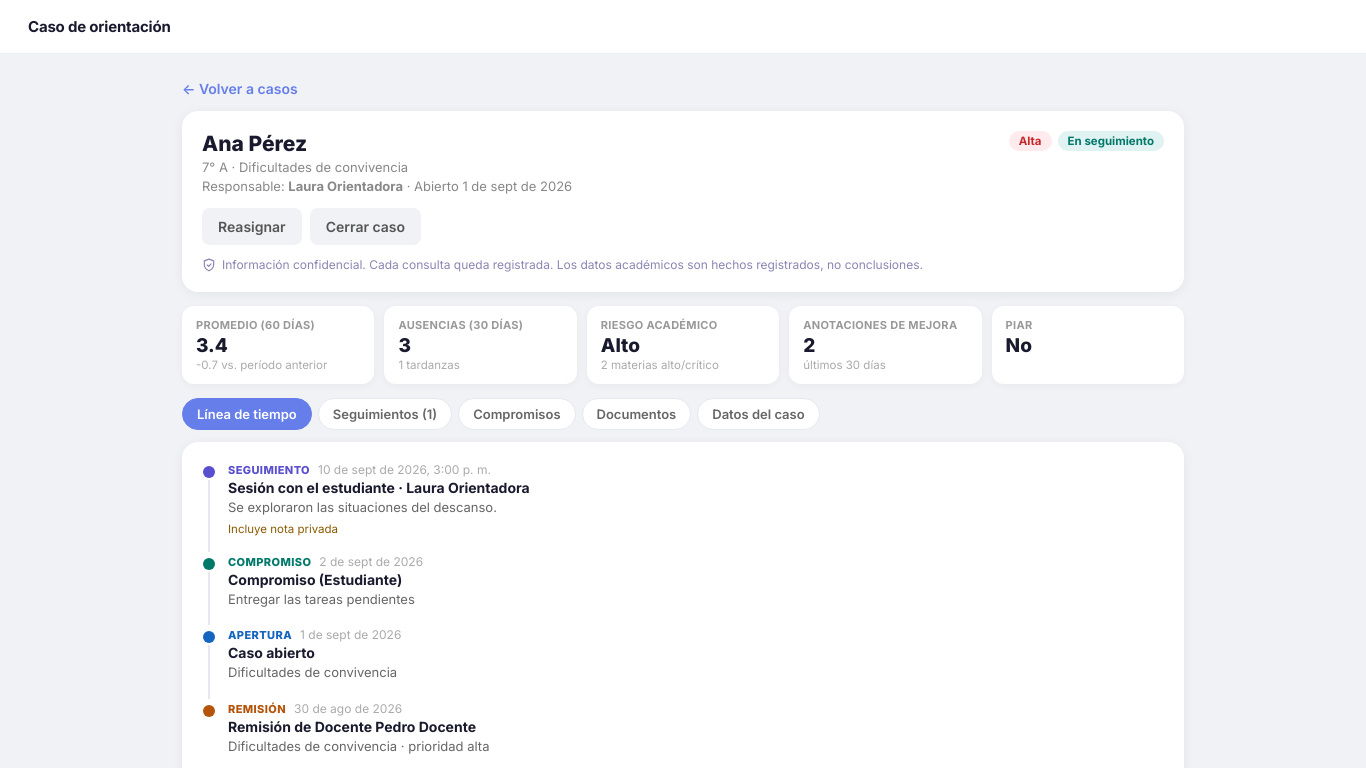
Test: Detalle del caso de orientación › marca los compromisos vencidos
The width and height of the screenshot is (1366, 768).
Expected: the heading "Ana Pérez" is shown, [202,131,307,156]
Click the tab "Compromisos" at (517, 414), box [458,398,576,430]
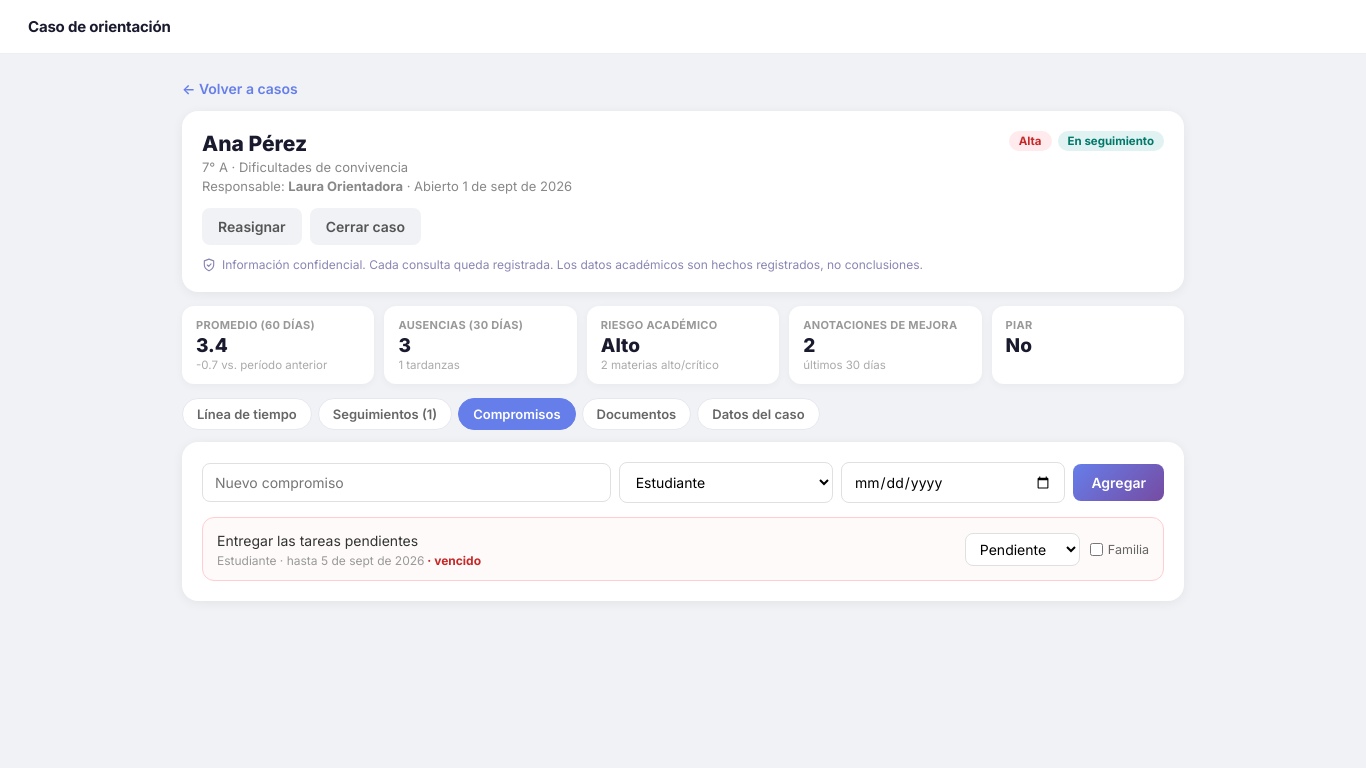
Expected: the text "Entregar las tareas pendientes" is shown, [217,532,418,549]
Expected: the text "· vencido" is shown, [424,553,481,568]
